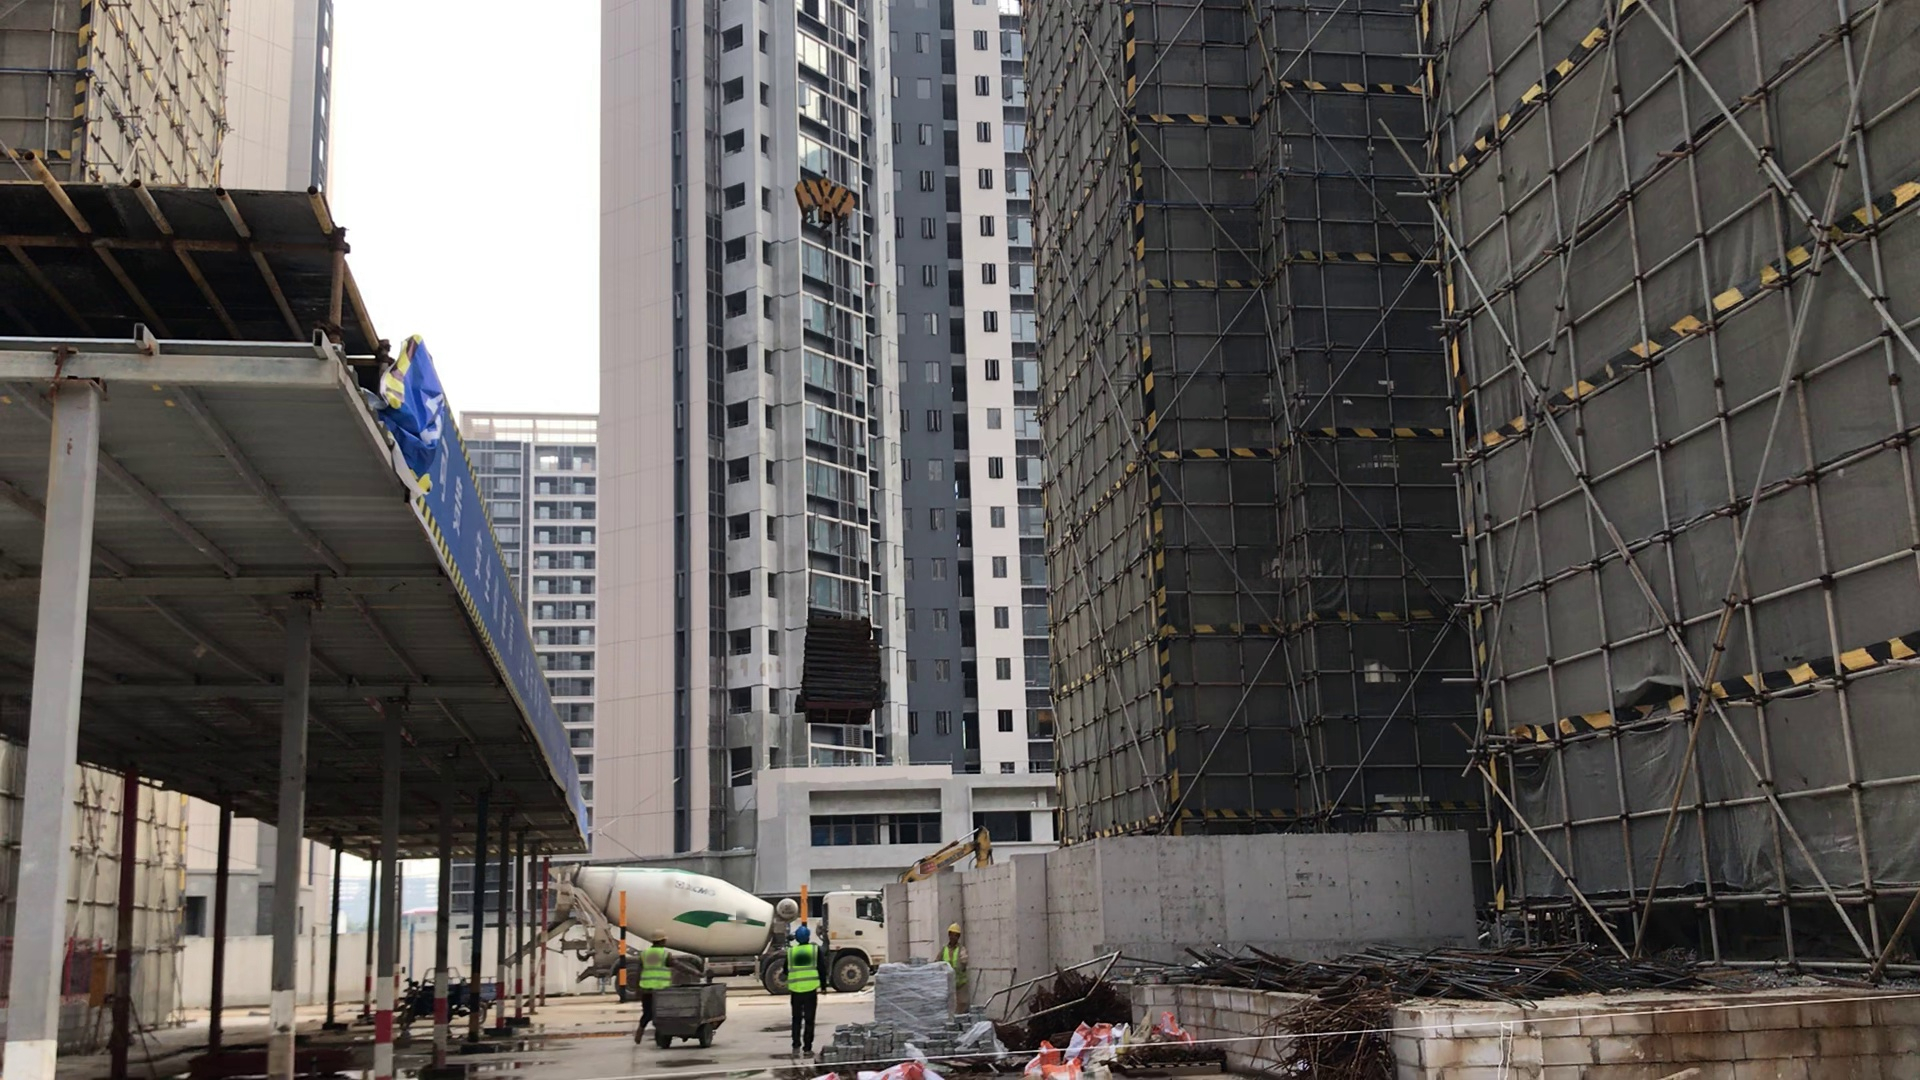ebox: (86, 944, 118, 1051)
helmet: (944, 914, 968, 942), (792, 923, 814, 946), (646, 927, 668, 947)
hook: (791, 162, 866, 228)
person: (776, 933, 822, 1064), (644, 928, 672, 1049), (945, 925, 971, 989)
vest: (785, 939, 821, 988), (647, 950, 670, 987), (946, 943, 967, 970)
